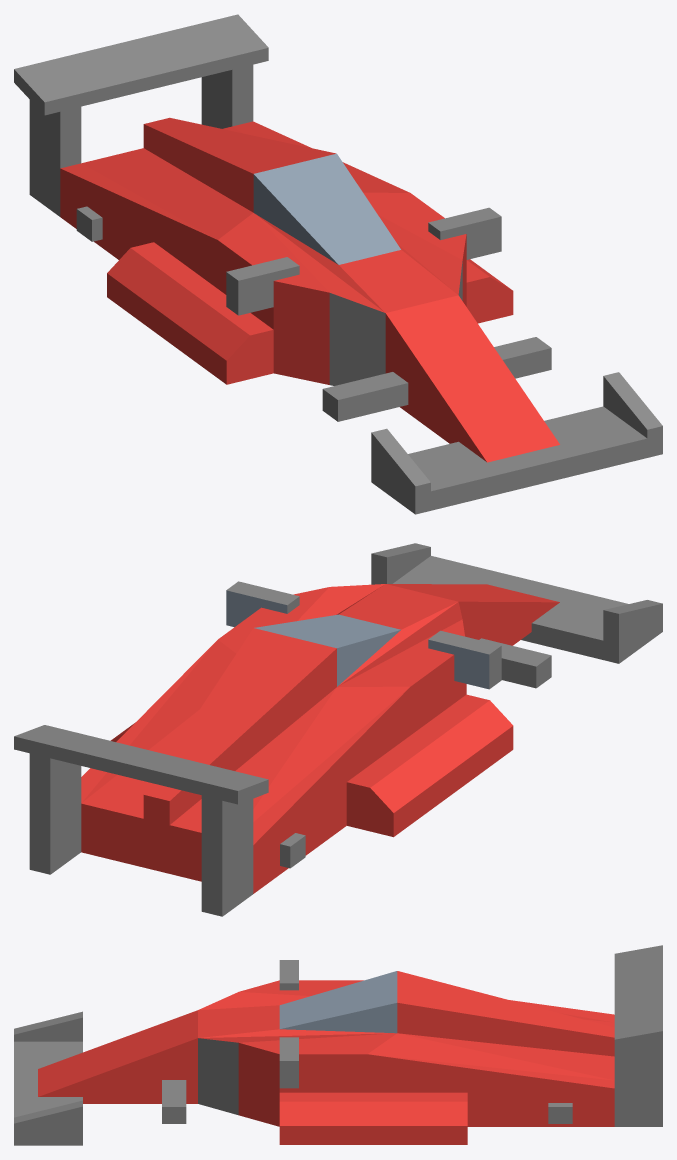
File: car-race.glb
3 views of the same model, one above another, from view 1: azimuth 30°, elevation 25°; view 2: azimuth 150°, elevation 25°; view 3: azimuth 270°, elevation 25° (orthographic). The views are drawn at different scales.
Visible parts, largest first — view 1: body.001; view 2: body.001; view 3: body.001.
Boxes of the visible parts, x1=… form: body.001: x1=14, y1=14, x2=662, y2=514; body.001: x1=14, y1=543, x2=662, y2=916; body.001: x1=14, y1=945, x2=662, y2=1145.
Size of the model in its own units: 1.72 by 0.8136 by 4.29.
